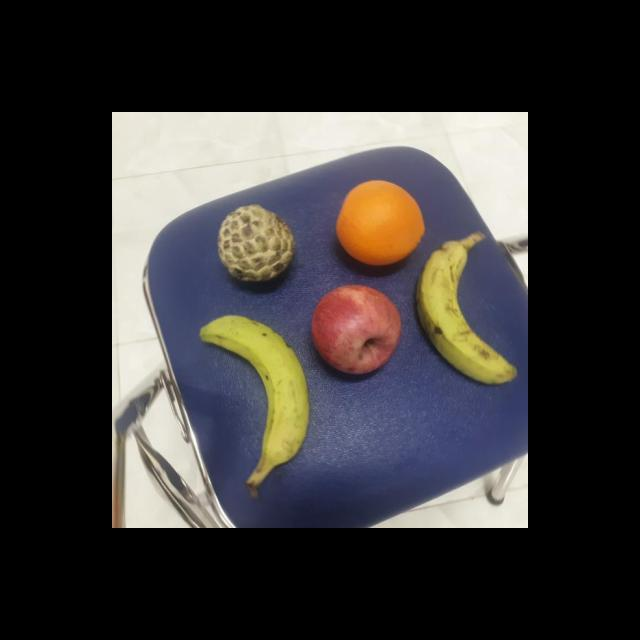Sakya fruit: (216, 204, 297, 282)
apple: (307, 282, 403, 376)
banana: (195, 313, 312, 472), (416, 238, 521, 390)
orange: (334, 176, 426, 266)
